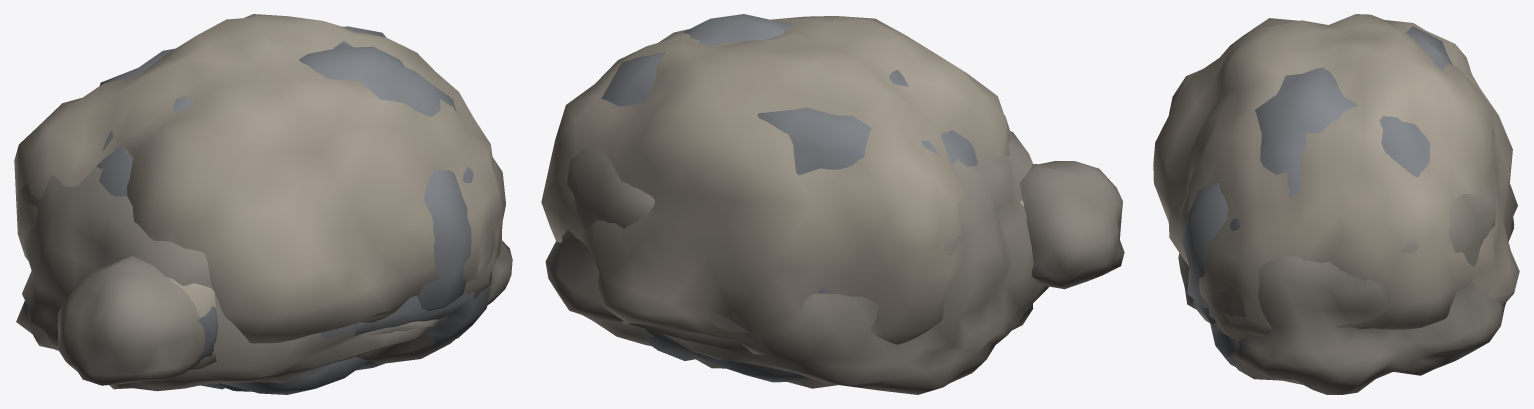
File: shore_rocks.fbx
3 views of the same model, side by side, from view 1: azimuth 30°, elevation 25°; view 2: azimuth 150°, elevation 25°; view 3: azimuth 270°, elevation 25° (orthographic). The views are drawn at different scales.
Visible parts, largest first — view 1: RockA, RockE, RockC, RockG, RockB, RockH, RockF; view 2: RockA, RockE, RockG, RockC, RockB; view 3: RockA, RockE, RockG, RockB, RockC.
Part boxes in pixels (box(x1,y1,x2,y2)): RockA: box(14, 14, 503, 343); RockE: box(16, 110, 512, 391); RockC: box(58, 256, 441, 385); RockG: box(96, 26, 489, 394); RockB: box(200, 167, 471, 389); RockH: box(169, 278, 216, 369); RockF: box(198, 306, 218, 358); RockA: box(541, 16, 1011, 354); RockE: box(545, 131, 1048, 394); RockG: box(601, 14, 977, 360); RockC: box(1019, 161, 1124, 289); RockB: box(693, 353, 810, 382); RockA: box(1153, 14, 1519, 342); RockE: box(1178, 181, 1514, 394); RockG: box(1196, 26, 1452, 367); RockB: box(1182, 183, 1227, 308); RockC: box(1168, 69, 1209, 322).
Bounding box in the file's own units: 74.91 × 44.4 × 53.2.
